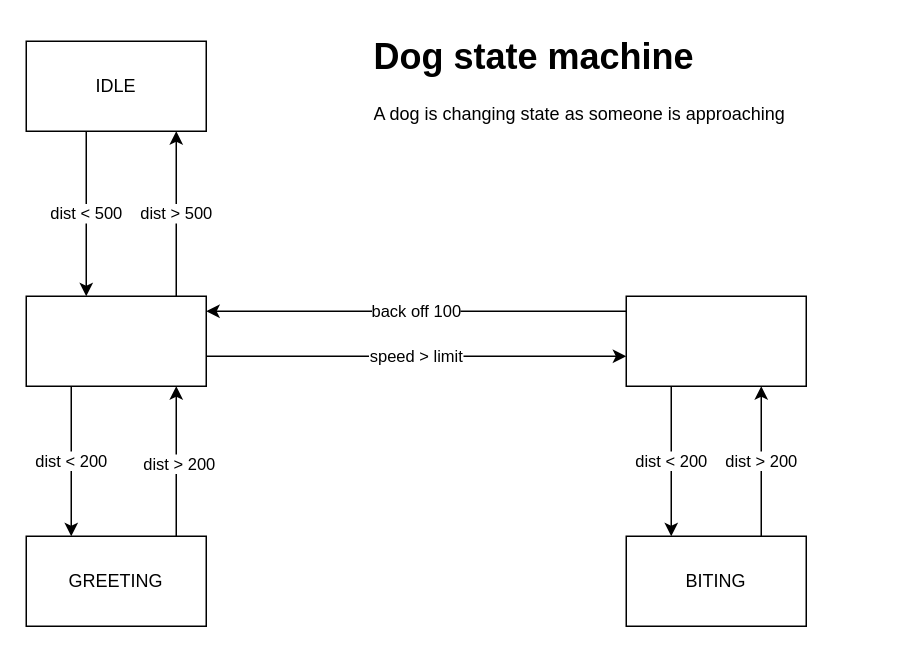
Image size: 923x653. Some labels were removed from this diagram. The shapes that lost their labels are listed below. From the top down, each one's centre as x and y in pixels, then its label:
At (x=115, y=340): "WATCHING".
At (x=715, y=340): "BARKING".
